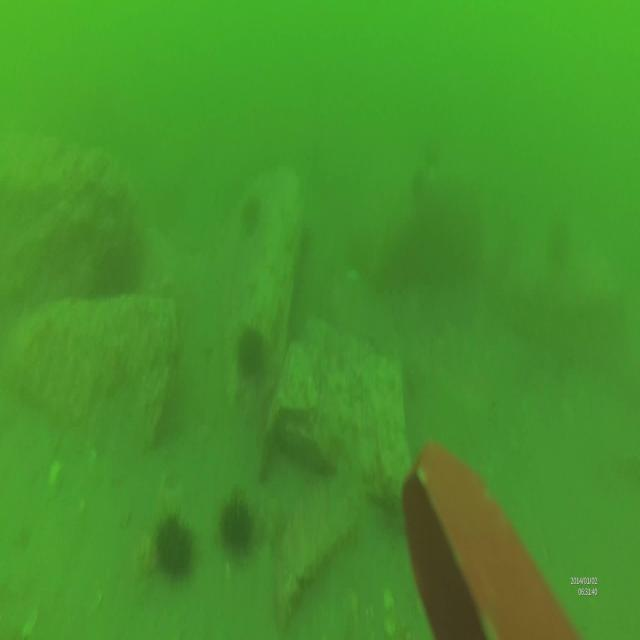echinus: (148, 512, 196, 573), (220, 490, 258, 552), (234, 325, 268, 373), (236, 196, 261, 232)
